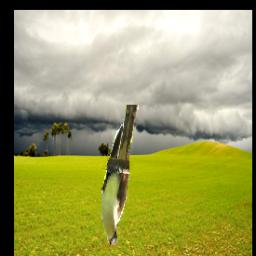Cuckoo: (101, 105, 139, 245)
